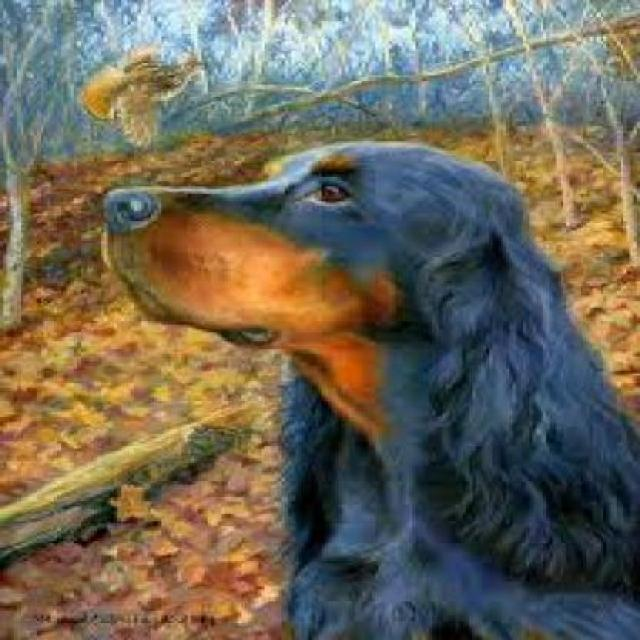animals: (85, 126, 623, 628)
